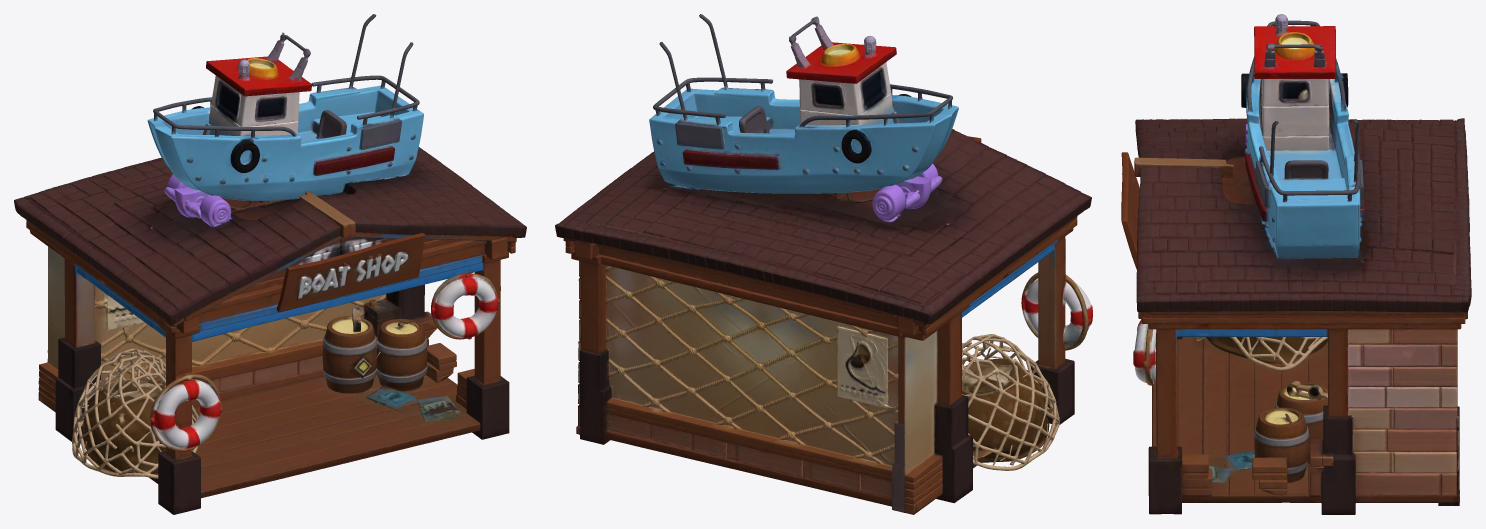
The model's file is BOAT_SHOOP-9dab28cc.glb.
The picture shows the model from 3 angles, left to right: view 1: azimuth 30°, elevation 25°; view 2: azimuth 150°, elevation 25°; view 3: azimuth 270°, elevation 25°; orthographic projection. The views are drawn at different scales.
Visible parts, largest first — view 1: tripo_node_6c56f1eb-82b3-4f9a-8c7b-38b7046a81a1; view 2: tripo_node_6c56f1eb-82b3-4f9a-8c7b-38b7046a81a1; view 3: tripo_node_6c56f1eb-82b3-4f9a-8c7b-38b7046a81a1.
Part boxes in pixels (x1,y1,x2,y2): tripo_node_6c56f1eb-82b3-4f9a-8c7b-38b7046a81a1: (14,14,526,514); tripo_node_6c56f1eb-82b3-4f9a-8c7b-38b7046a81a1: (555,14,1092,514); tripo_node_6c56f1eb-82b3-4f9a-8c7b-38b7046a81a1: (1121,14,1471,514).
Size of the model in its own units: 0.9792 by 0.9252 by 0.7404.
Materials: 1 (1 with a texture image).
